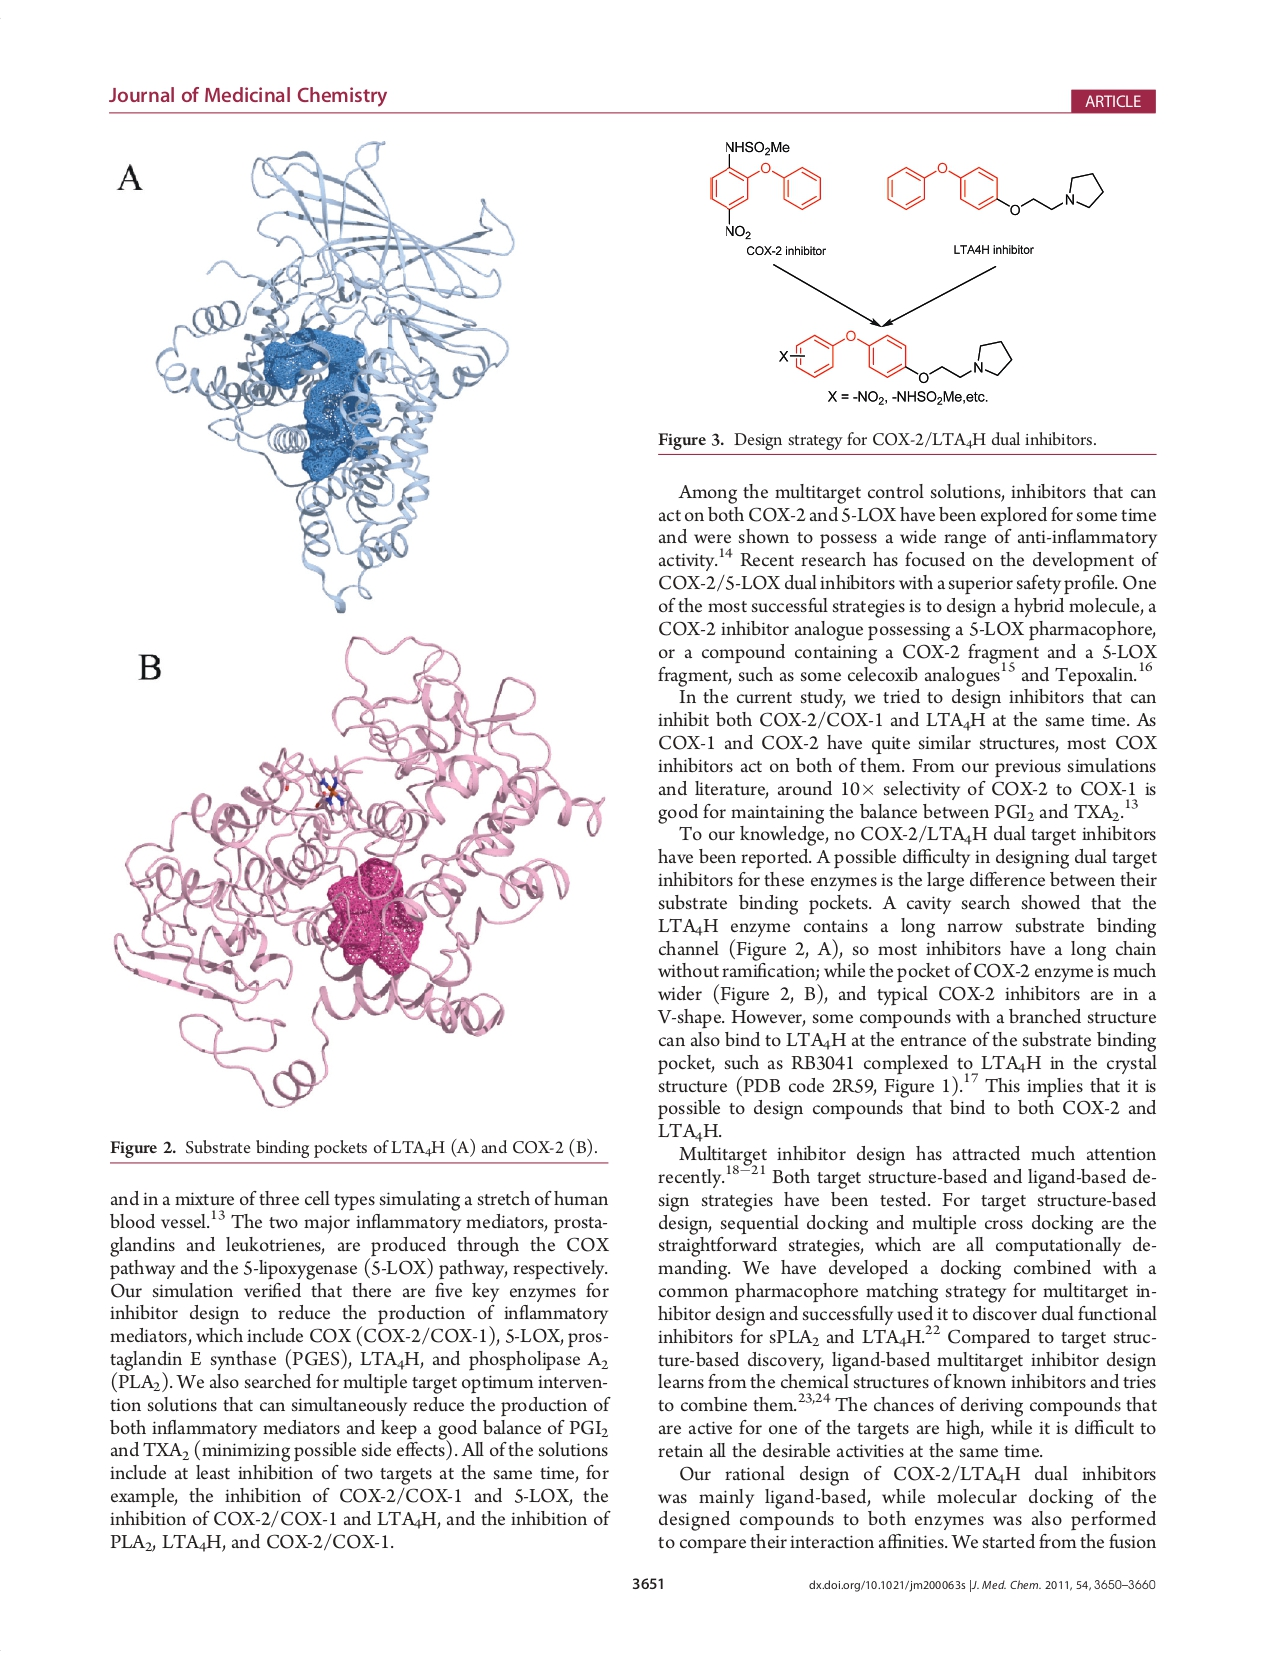exist_molecular: (879, 153, 1108, 219), (775, 327, 1013, 387), (705, 134, 827, 241)
